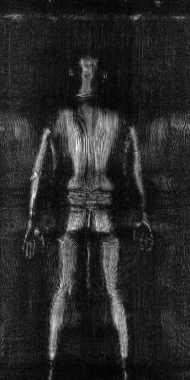gun: (117, 139, 130, 174)
